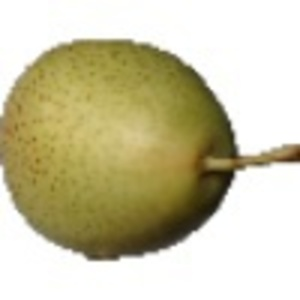pera: (1, 37, 300, 263)
